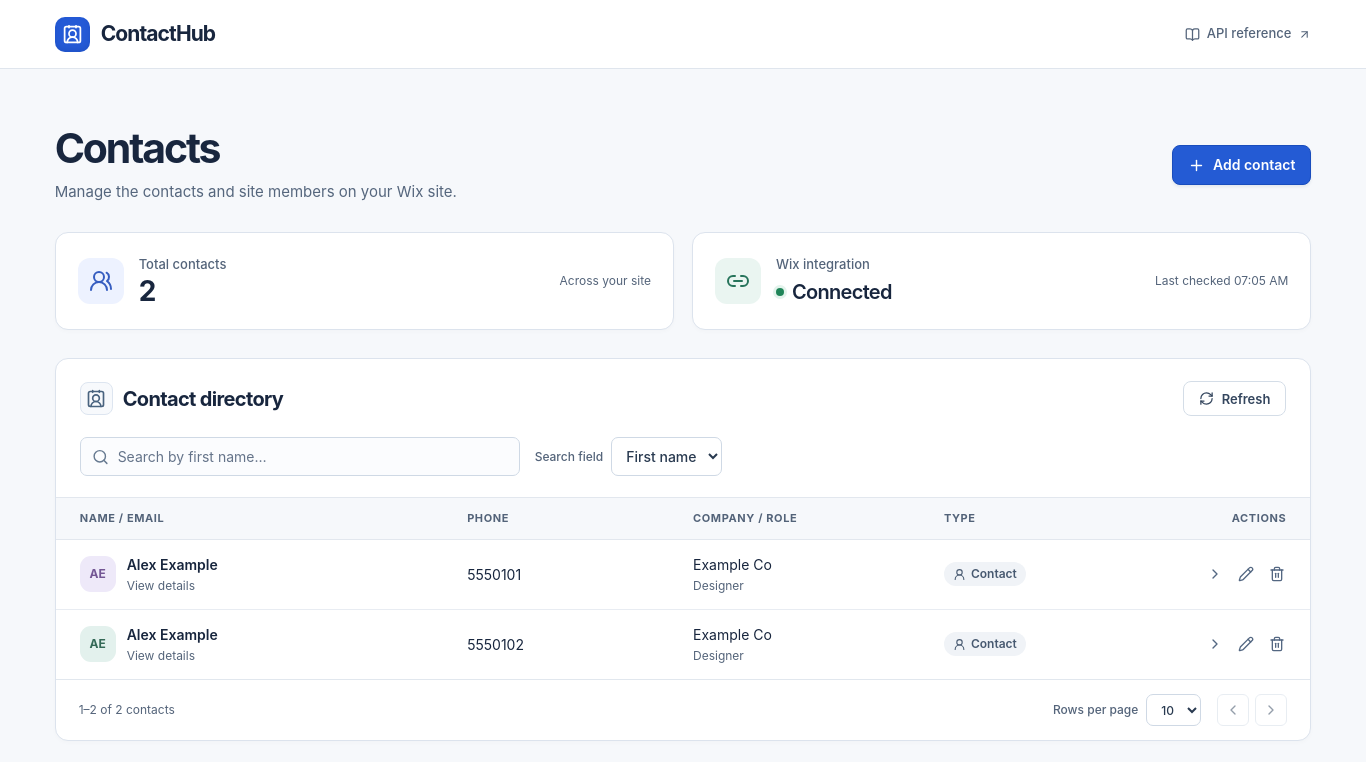
Scenario: identifies the selected contact in delete controls and confirmation: same name, different phones
Check: the text "Connected" is shown, box [776,277,892,307]
Click the button named "Delete Alex Example · 5550102".
click(1277, 644)  # box [1261,628,1292,660]
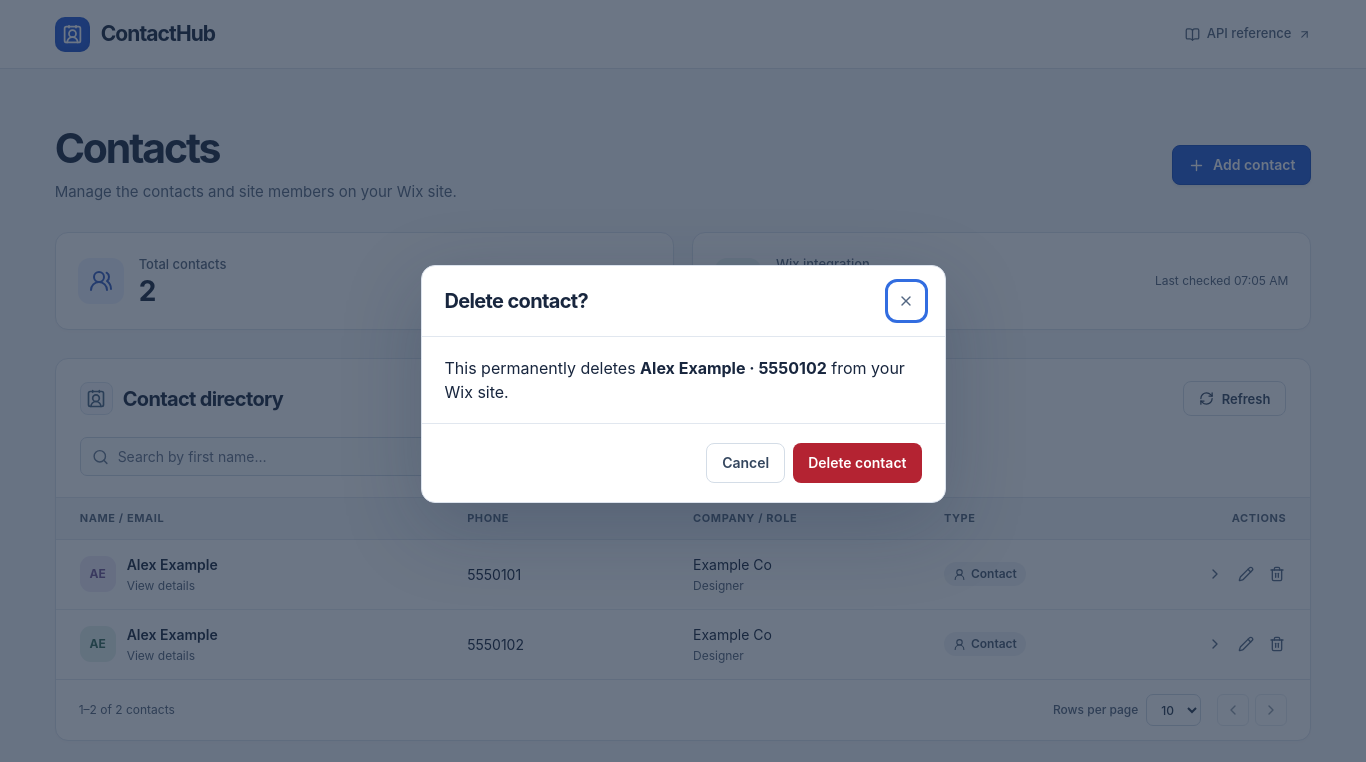
Click the button "Delete contact".
click(857, 463)  # box [793,443,922,483]
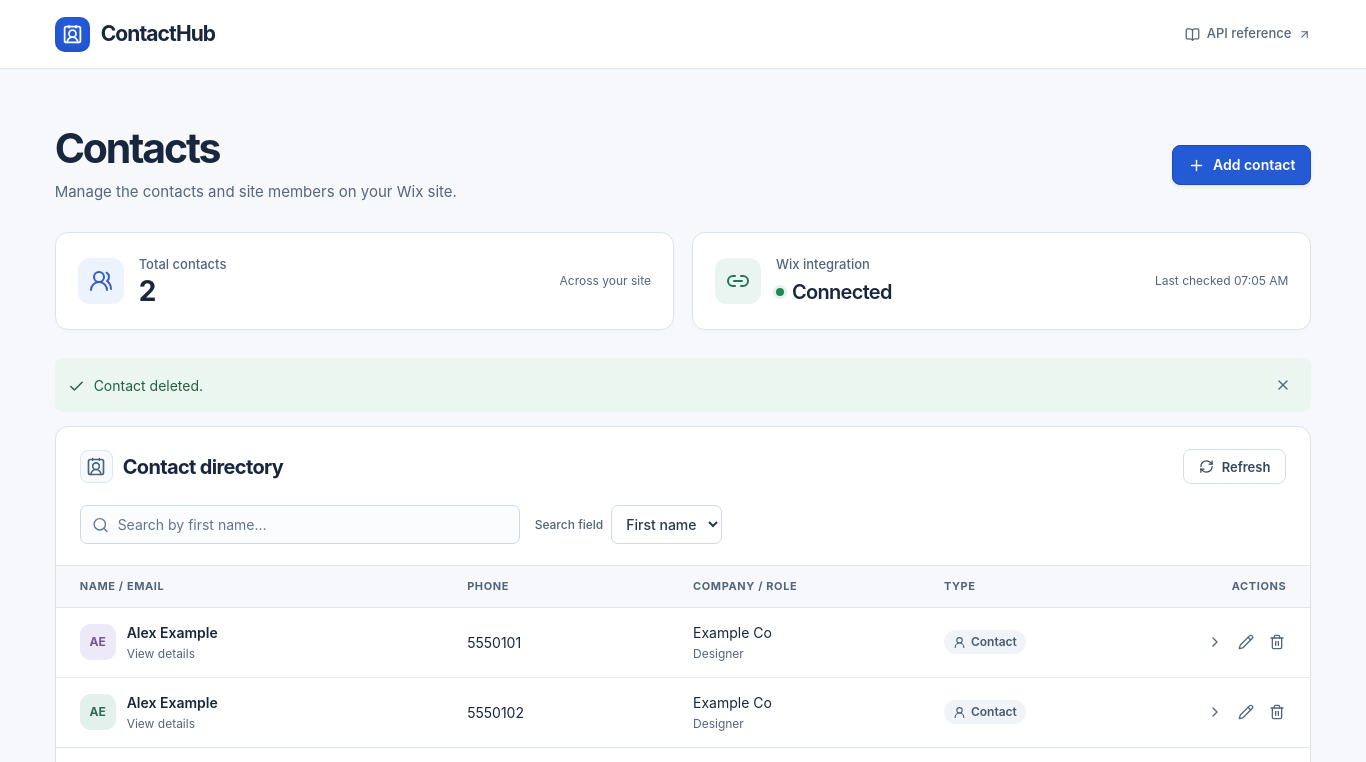
Check: the text "Contact deleted." is shown, box [55,358,1311,412]
